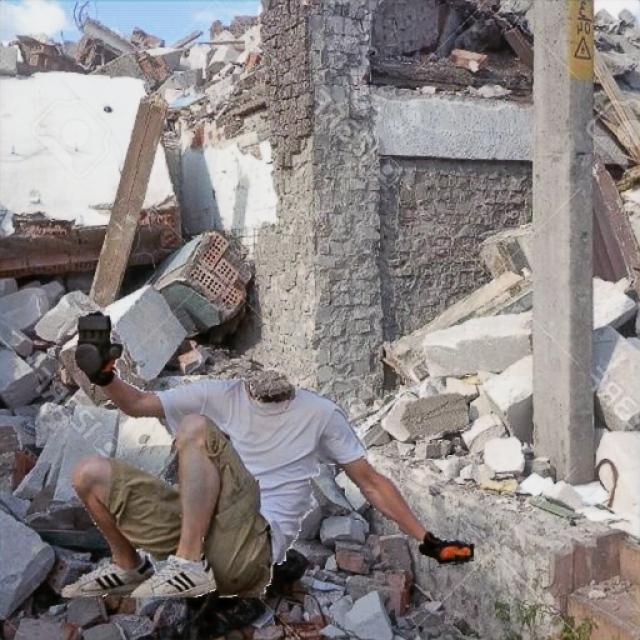Person in Rubble: (60, 312, 472, 596)
